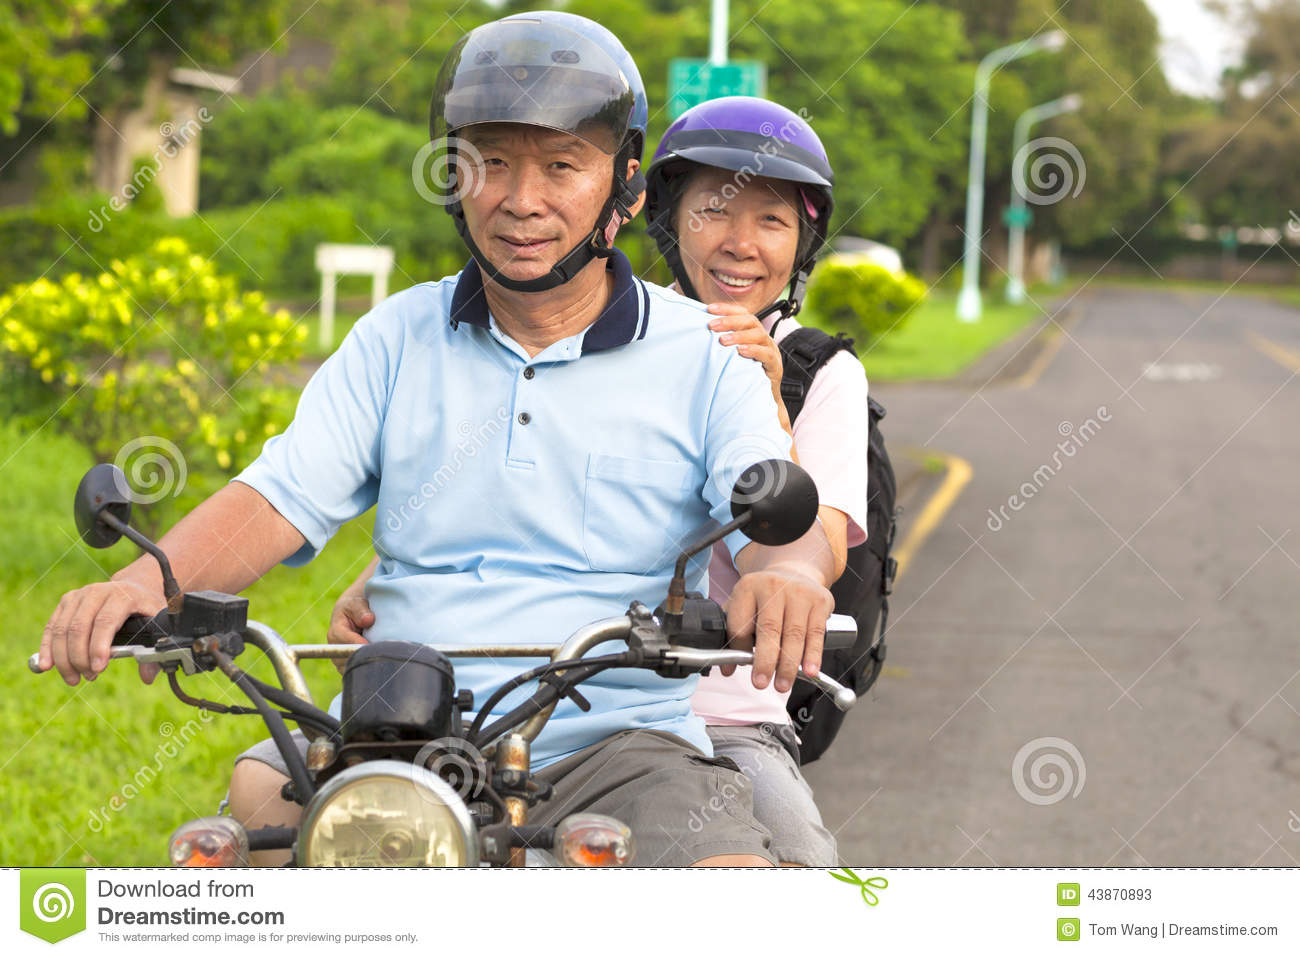helmet: (439, 19, 654, 167), (646, 85, 837, 192)
